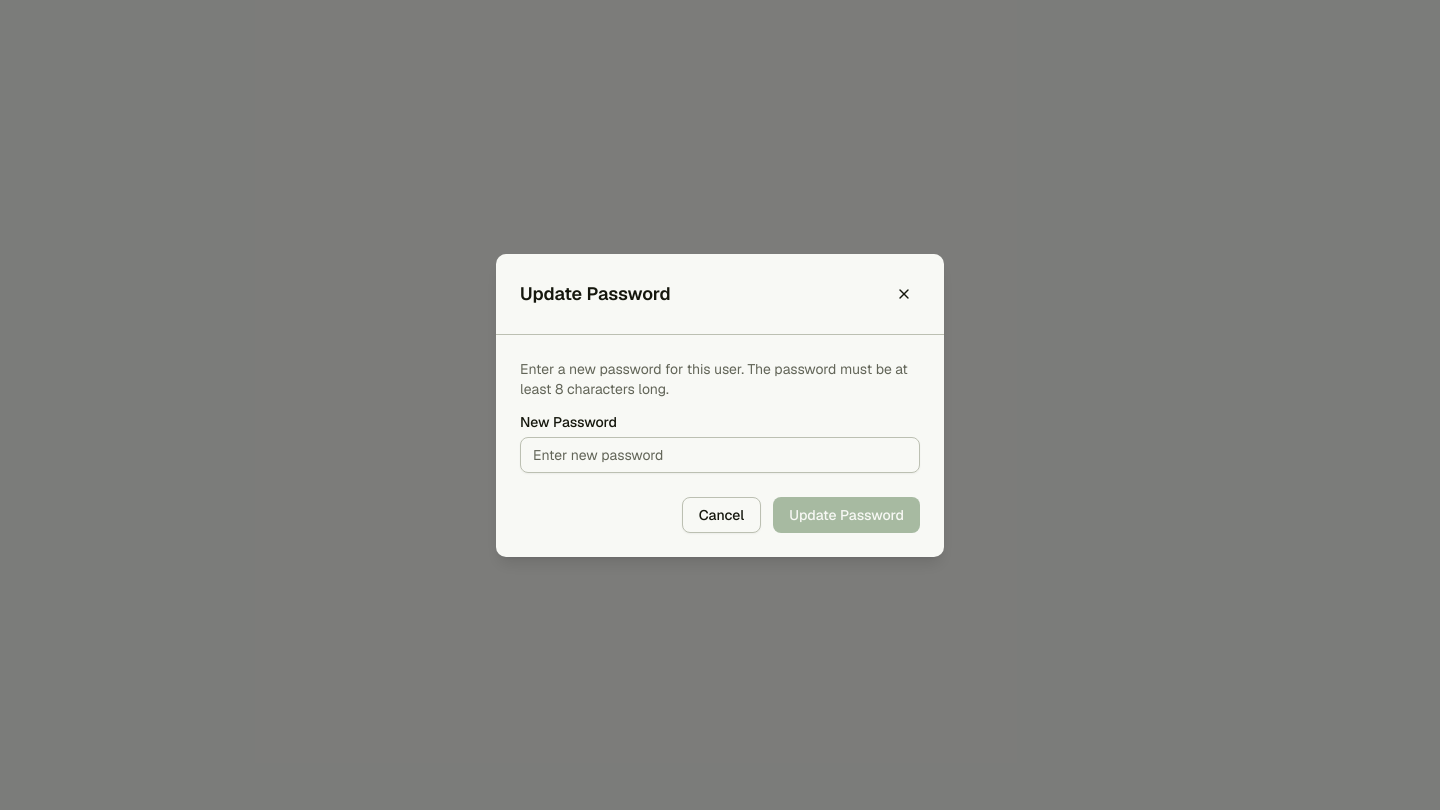
PasswordUpdateModal › Password validation › enables submit button when password is entered
The width and height of the screenshot is (1440, 810).
Type "password123" into the password field labelled "New Password" at (720, 454), box [520,436,920,472]
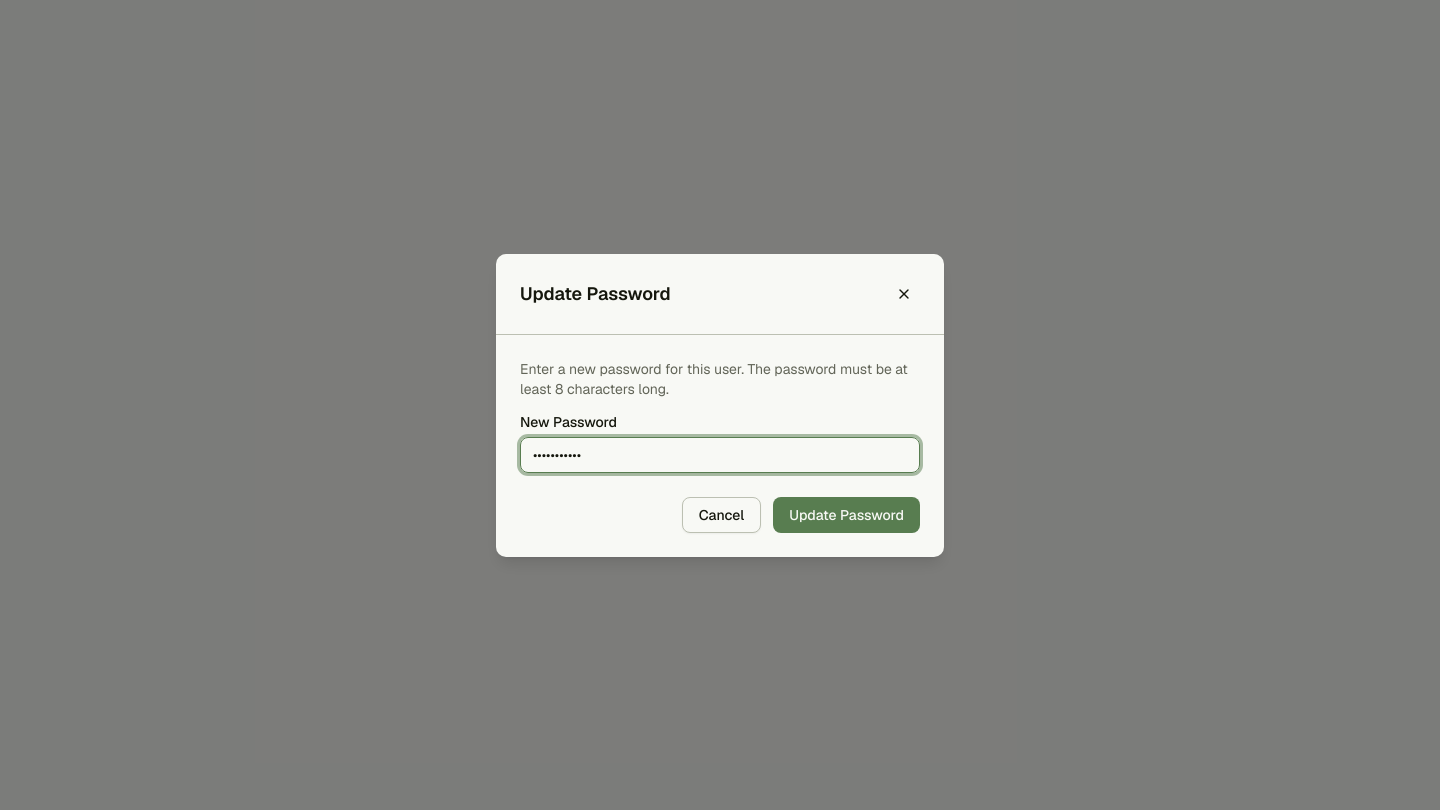
Check: the button "Update Password" is enabled, box [773,496,920,532]
